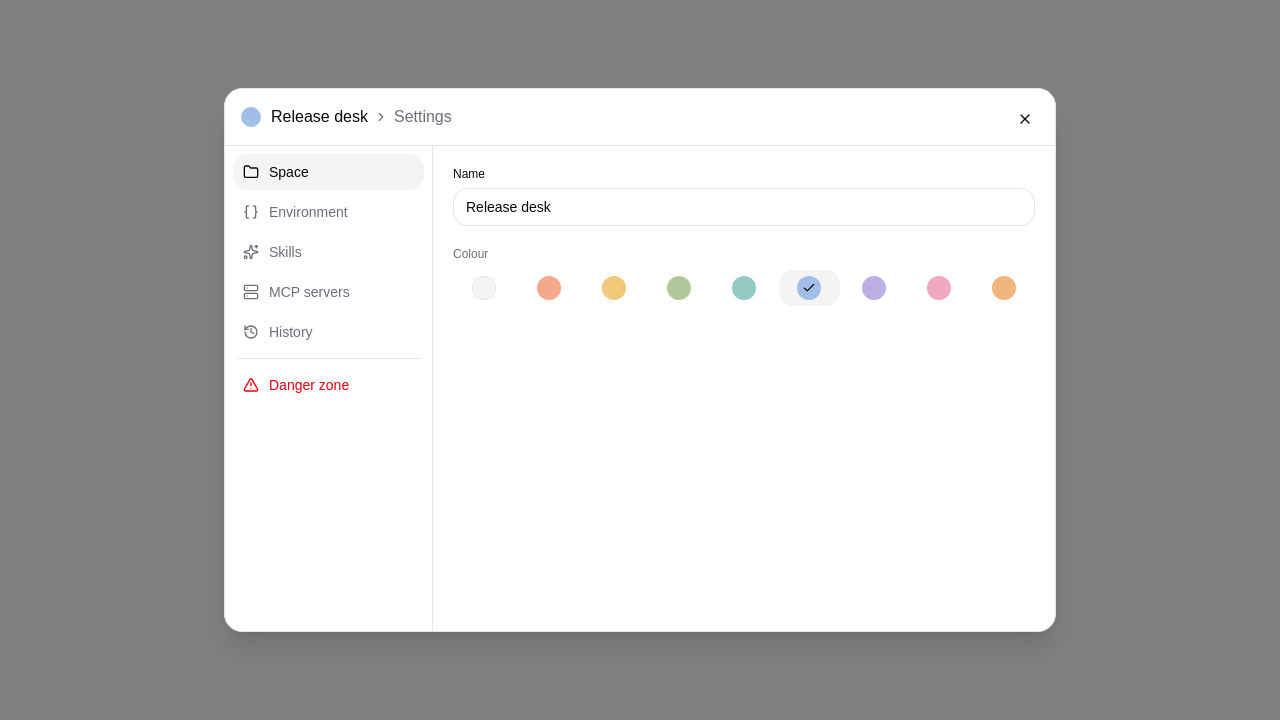
Test: SpaceSettingsDialog MCP servers › lists the servers the space holds
The width and height of the screenshot is (1280, 720).
What coordinates should you click on to do the following:
click the tab "MCP servers"
I would click on:
 (328, 292)
Its box is [233,274,424,310].
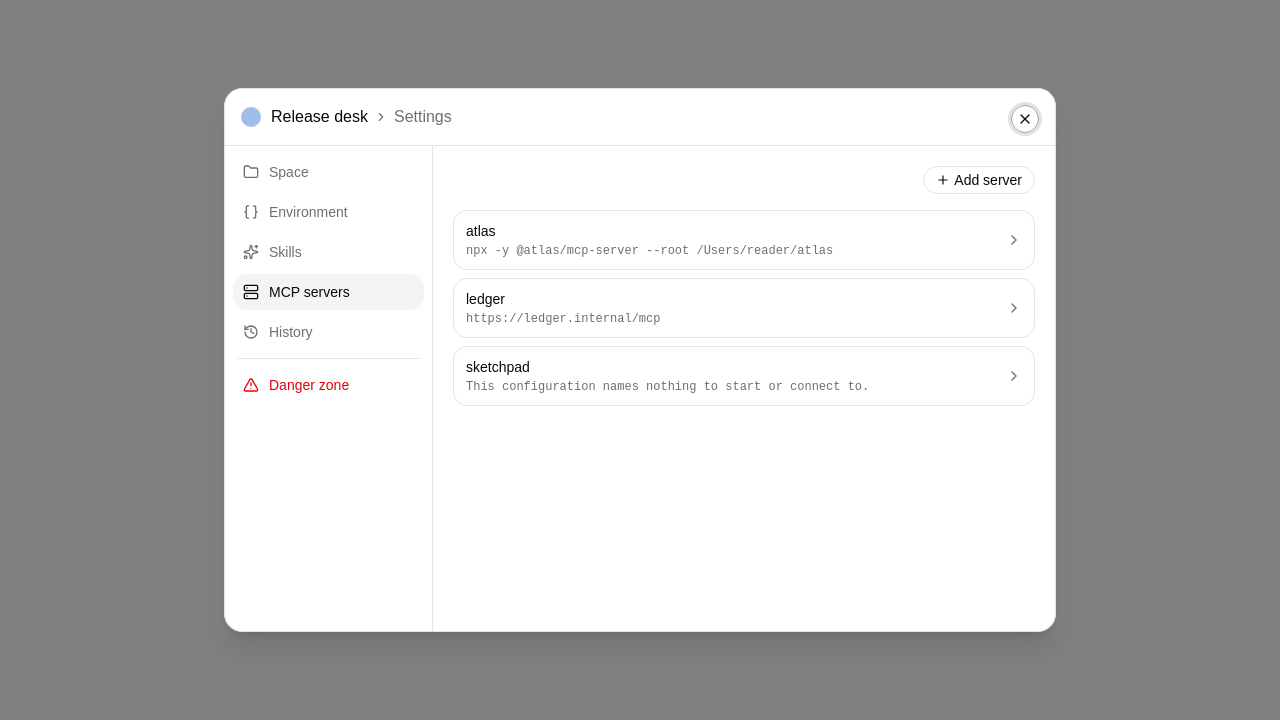
Expected: the text "atlas" is shown, [466,223,496,239]
Expected: the text "ledger" is shown, [466,291,505,307]
